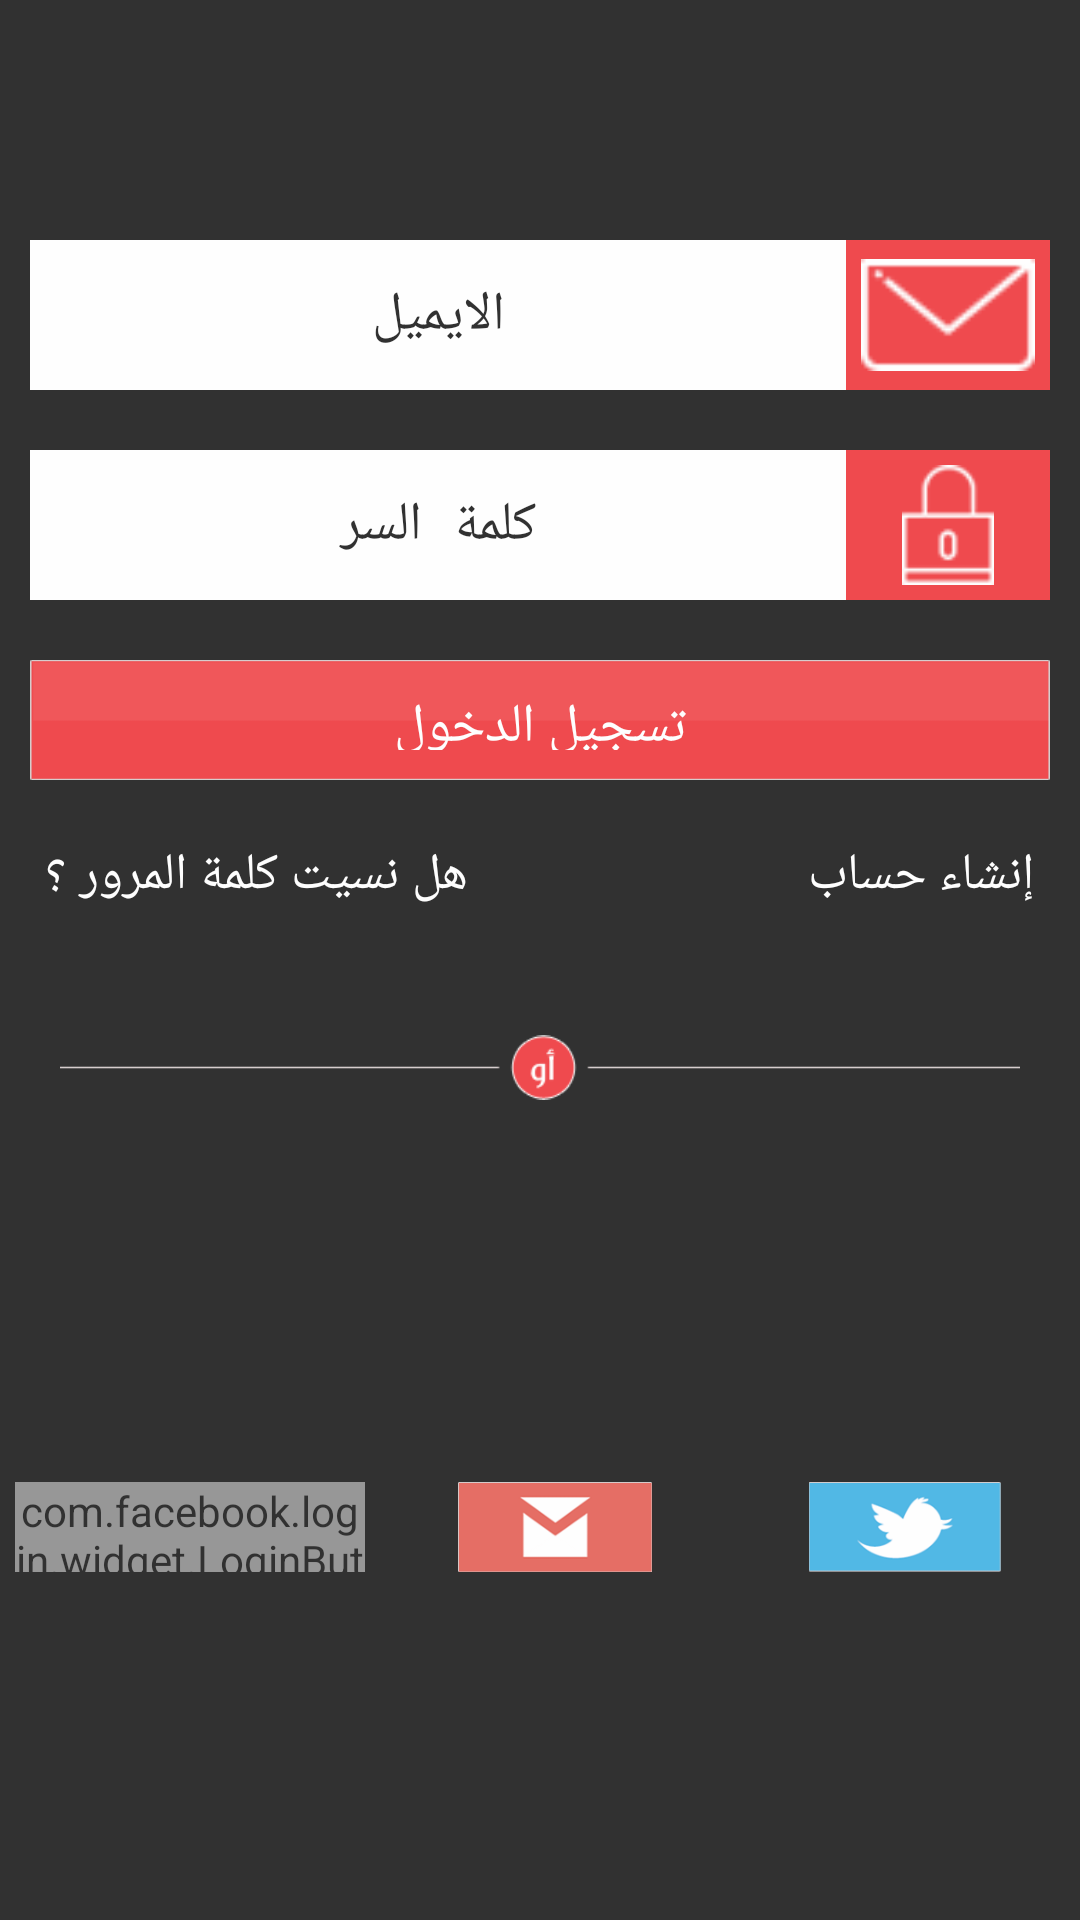

Screen size 1080w x 1920h. Icon name, then its center in pixels as (x=x, y=y):
feld email: (x=948, y=315)
text feld password: (x=948, y=525)
